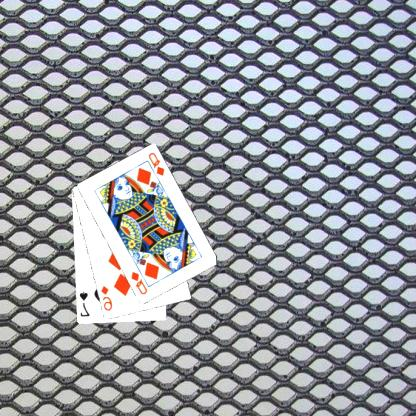7S: (78, 289, 92, 318)
9D: (100, 283, 115, 312)
QD: (147, 150, 168, 178), (130, 269, 150, 296)
